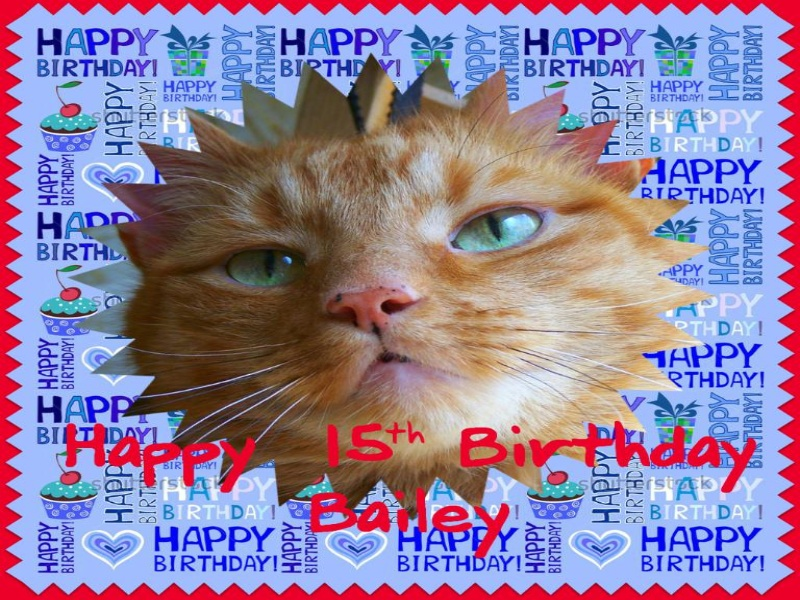cat: (114, 74, 696, 522)
